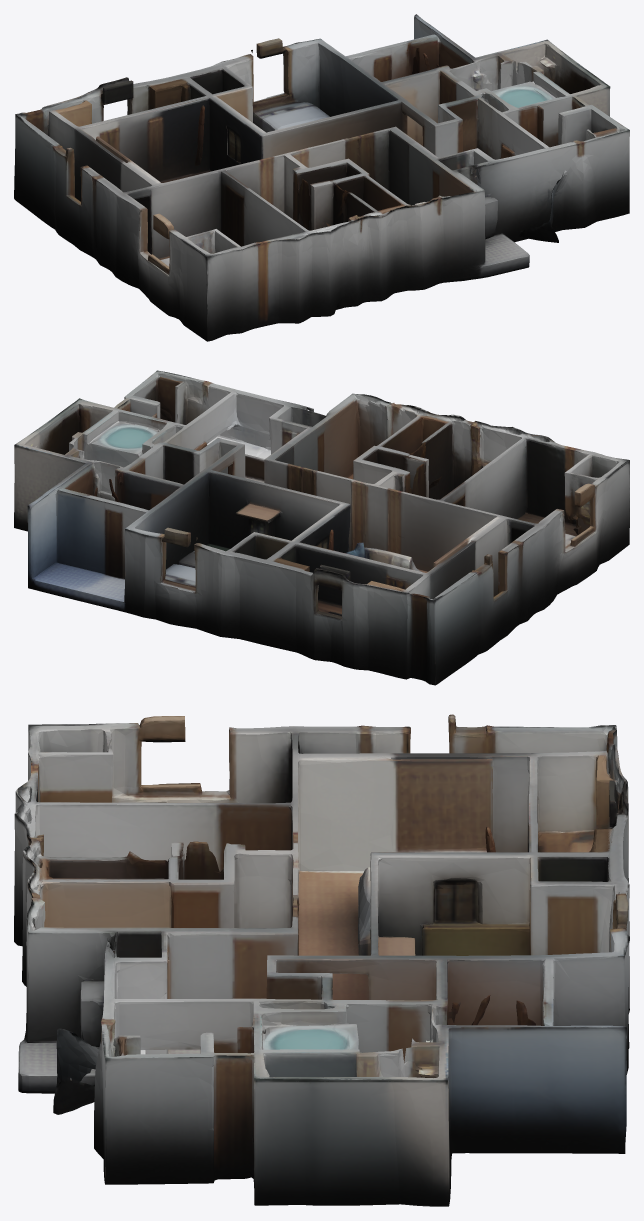
3 views of the same model, one above another, from view 1: azimuth 30°, elevation 25°; view 2: azimuth 150°, elevation 25°; view 3: azimuth 270°, elevation 25° (orthographic). The views are drawn at different scales.
Parts seen in each view (by area): view 1: world; view 2: world; view 3: world.
Boxes of the visible parts, x1,y1,x2,y2 form: world: [14, 14, 629, 341]; world: [14, 370, 629, 685]; world: [14, 714, 629, 1206].
Size of the model in its own units: 0.9947 by 0.1877 by 0.7244.
Materials: 1 (1 with a texture image).
